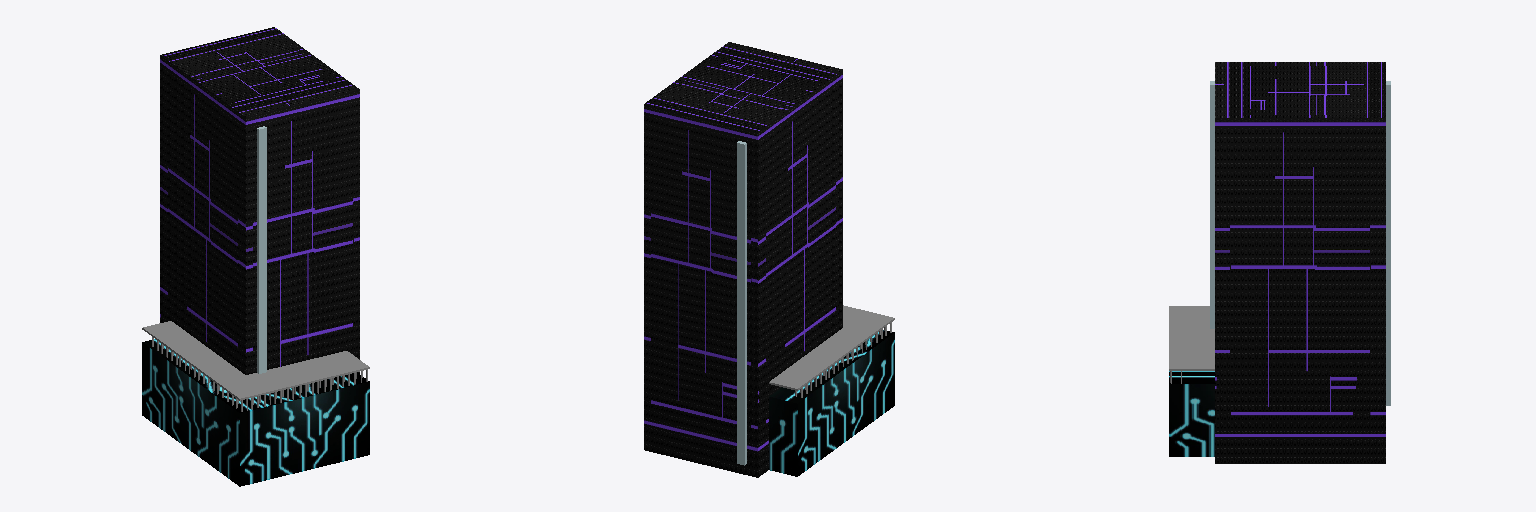
3 views of the same model, side by side, from view 1: azimuth 30°, elevation 25°; view 2: azimuth 150°, elevation 25°; view 3: azimuth 270°, elevation 25° (orthographic).
Visible parts, largest first — view 1: Box054, Box053, Box055, Box056; view 2: Box054, Box053, Box056, Box055; view 3: Box054, Box053, Box055, Box056.
Part boxes in pixels (left/top/right/bottom): Box054: left=160, top=27, right=359, bottom=374; Box053: left=142, top=339, right=369, bottom=486; Box055: left=142, top=321, right=369, bottom=400; Box056: left=257, top=126, right=266, bottom=373; Box054: left=644, top=42, right=842, bottom=477; Box053: left=769, top=330, right=894, bottom=476; Box056: left=737, top=141, right=746, bottom=465; Box055: left=769, top=305, right=894, bottom=390; Box054: left=1215, top=62, right=1385, bottom=463; Box053: left=1169, top=371, right=1214, bottom=456; Box055: left=1169, top=306, right=1214, bottom=370; Box056: left=1210, top=81, right=1390, bottom=405.
Bounding box in the file's own units: 3.77 × 8.72 × 5.06.
4 materials, 3 textured.